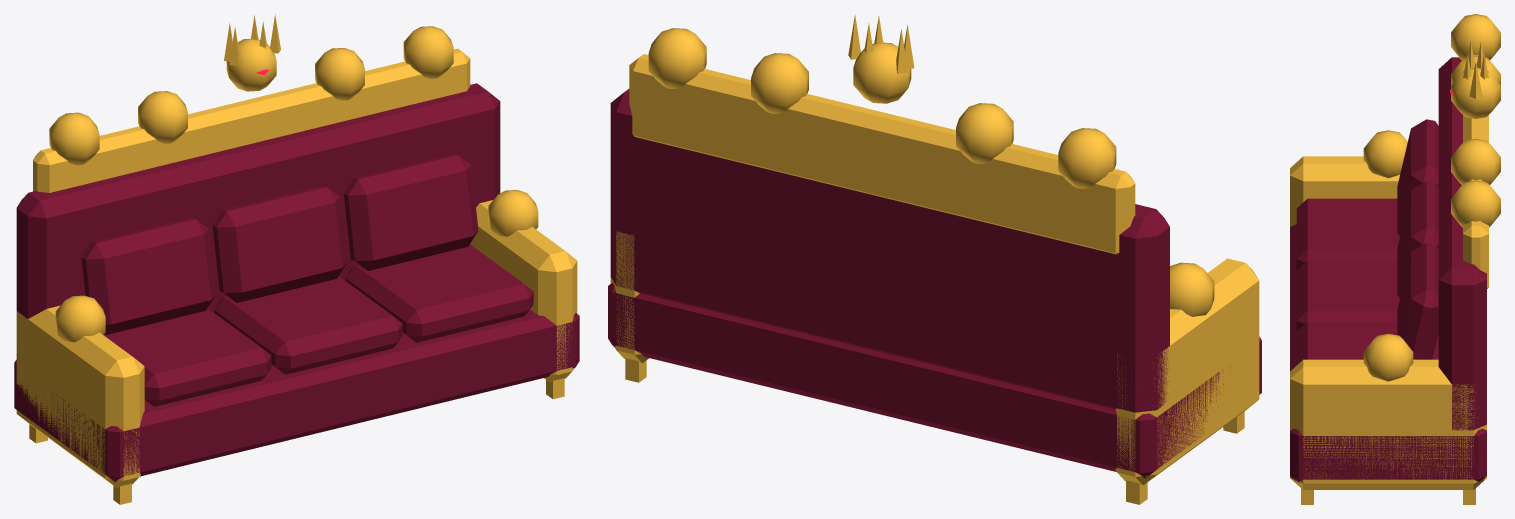
File: throne_sofa.glb
3 renders of one model, left to right at view 1: azimuth 30°, elevation 25°; view 2: azimuth 150°, elevation 25°; view 3: azimuth 270°, elevation 25°, orthographic. The views are drawn at different scales.
Visible parts, largest first — view 1: throne_sofa; view 2: throne_sofa; view 3: throne_sofa.
Part boxes in pixels (x1=…): throne_sofa: x1=14, y1=14, x2=579, y2=504; throne_sofa: x1=608, y1=14, x2=1261, y2=504; throne_sofa: x1=1290, y1=14, x2=1500, y2=504.
Size of the model in its own units: 2.43 by 1.77 by 0.9641.
